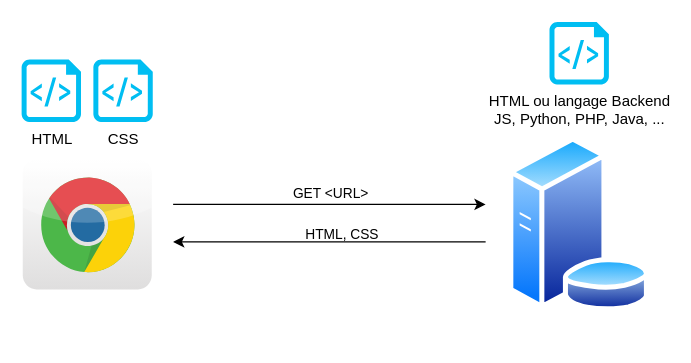
Image size: 691x363. Some labels were removed from this diagram. The shapes that lost their labels are listed below. From the top down, each one's centre as x and y in pixels, then its label:
At point (87, 223): "Navigateur client".
At point (578, 223): "Serveur et BDD".
